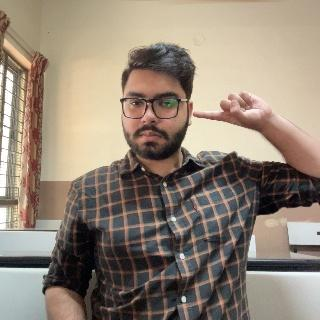Deaf: (195, 88, 285, 138)
Face: (121, 41, 193, 155)
